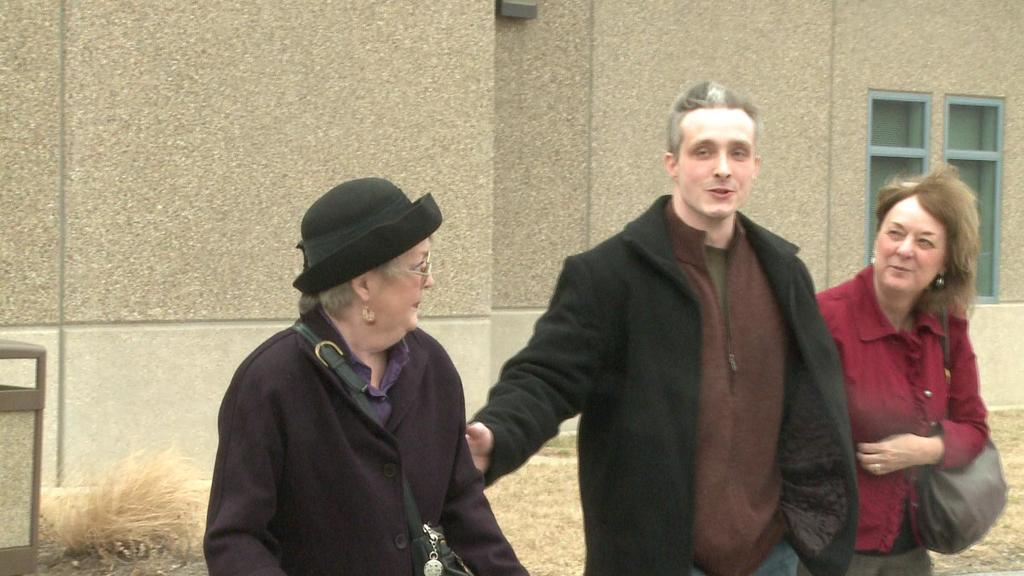Hat: (290, 176, 444, 296)
